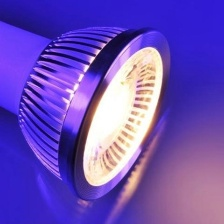light_bulb: (14, 13, 180, 208)
